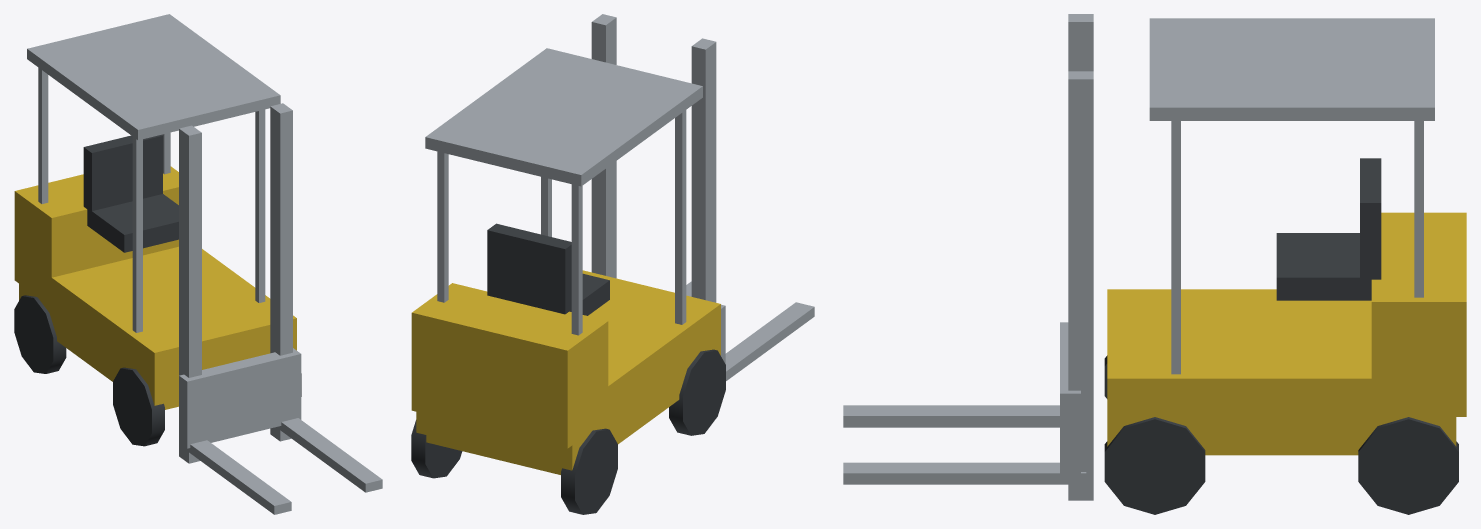
3 views of the same model, side by side, from view 1: azimuth 30°, elevation 25°; view 2: azimuth 150°, elevation 25°; view 3: azimuth 270°, elevation 25° (orthographic). The views are drawn at different scales.
Parts seen in each view (by area): view 1: chassis, overhead, carriage, counterweight, mast0, mast1, seatback, seat, wheel2, wheel0, fork0, fork1 (+3 smaller); view 2: counterweight, overhead, chassis, mast0, seatback, mast1, wheel0, wheel2, cabPost2, fork0, cabPost0, cabPost1 (+3 smaller); view 3: chassis, overhead, counterweight, mast1, wheel3, wheel1, seat, fork1, fork0, seatback, cabPost3, carriage (+2 smaller).
Boxes of the visible parts, x1,y1,x2,y2 form: chassis: (19,246,296,409); overhead: (27,14,280,140); carriage: (179,348,301,448); counterweight: (14,166,178,302); mast0: (179,125,201,463); mast1: (270,103,292,441); seatback: (83,134,162,210); seat: (87,194,178,252); wheel2: (113,367,164,446); wheel0: (14,295,66,373); fork0: (180,440,291,514); fork1: (276,418,382,492); counterweight: (411,283,608,448); overhead: (425,48,702,186); chassis: (416,270,720,474); mast0: (691,38,716,302); seatback: (487,223,571,314); mast1: (591,14,616,278); wheel0: (561,428,617,514); wheel2: (669,349,725,435); cabPost2: (675,110,686,324); fork0: (725,302,814,380); cabPost0: (571,184,582,335); cabPost1: (437,151,448,302); chassis: (1107,289,1456,455); overhead: (1149,18,1434,120); counterweight: (1371,212,1466,416); mast1: (1068,71,1093,500); wheel3: (1104,417,1205,514); wheel1: (1358,417,1458,514); seat: (1276,233,1371,300); fork1: (843,462,1086,484); fork0: (843,405,1059,427); seatback: (1360,158,1381,279); cabPost3: (1171,121,1180,374); carriage: (1060,322,1080,479).
Size of the model in its own units: 1.05 by 2.2 by 2.95.
